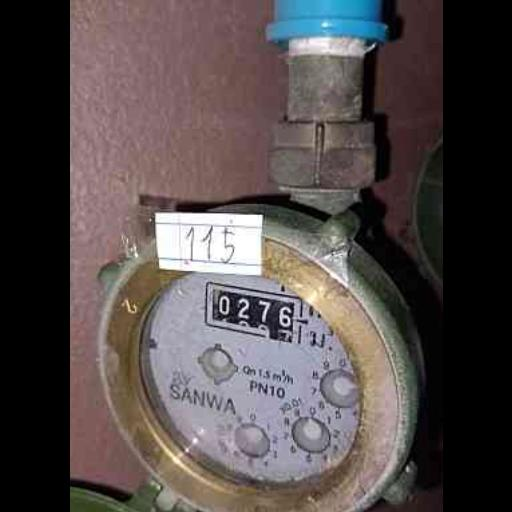0: (210, 288, 233, 322)
2: (230, 293, 254, 328)
6: (268, 300, 298, 343)
7: (251, 296, 273, 331)
border_water_meter_number: (198, 280, 308, 344)
